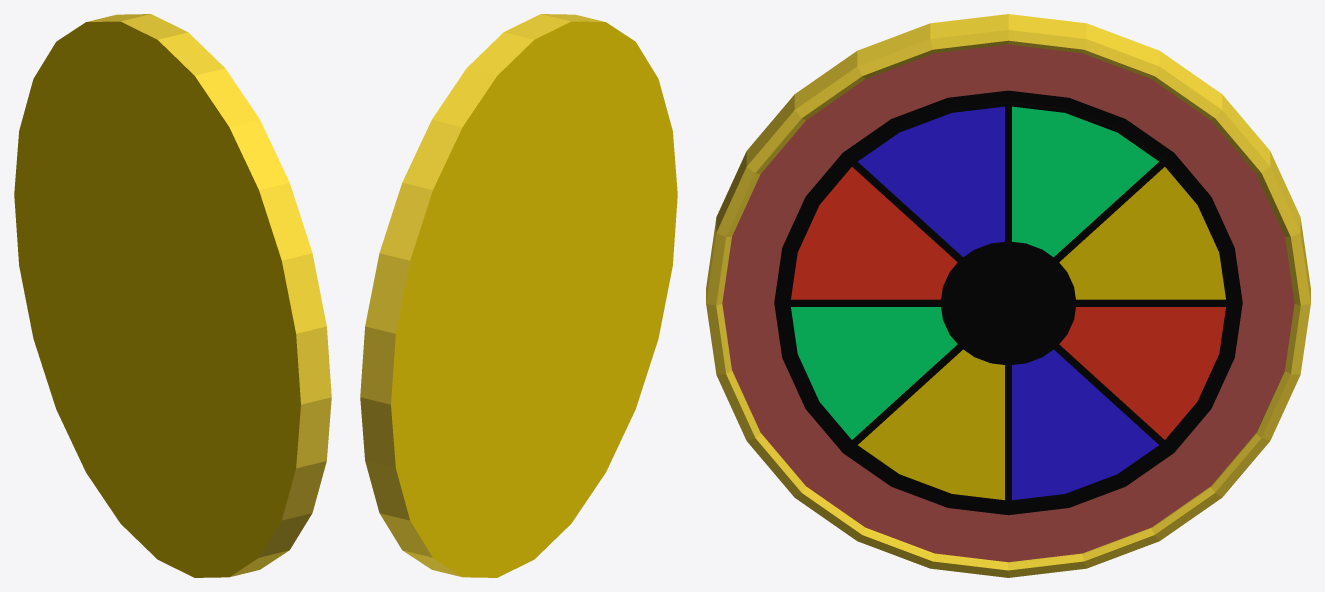
The model's file is Wheel.fbx.
3 renders of one model, left to right at view 1: azimuth 30°, elevation 25°; view 2: azimuth 150°, elevation 25°; view 3: azimuth 270°, elevation 25°, orthographic. The views are drawn at different scales.
Visible parts, largest first — view 1: Wheel; view 2: Wheel; view 3: Wheel.
Part boxes in pixels (left/top/right/bottom): Wheel: left=14, top=14, right=331, bottom=577; Wheel: left=360, top=14, right=677, bottom=577; Wheel: left=706, top=14, right=1310, bottom=577.
Bounding box in the file's own units: 10.73 × 157 × 157.
1 material, 1 textured.
